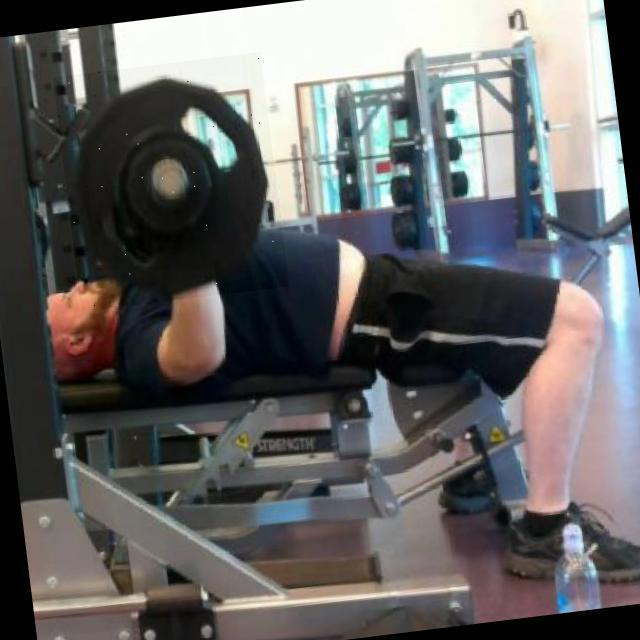barbell: (54, 52, 290, 312)
